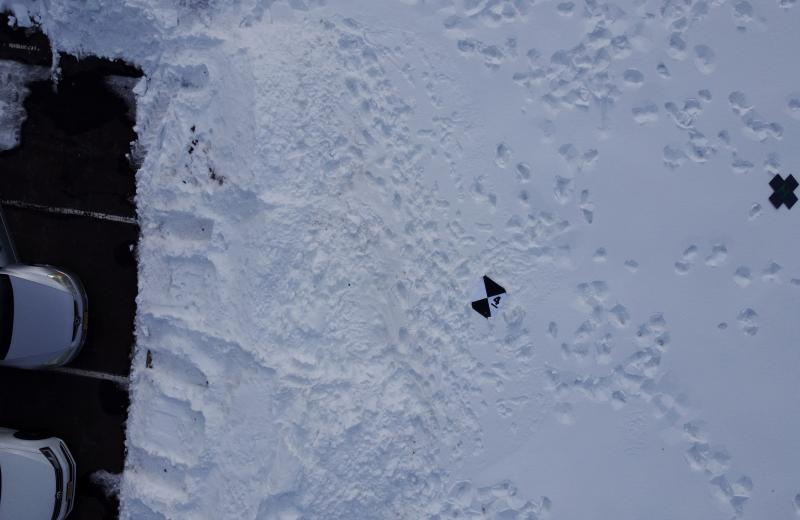Cross: (761, 169, 800, 213)
